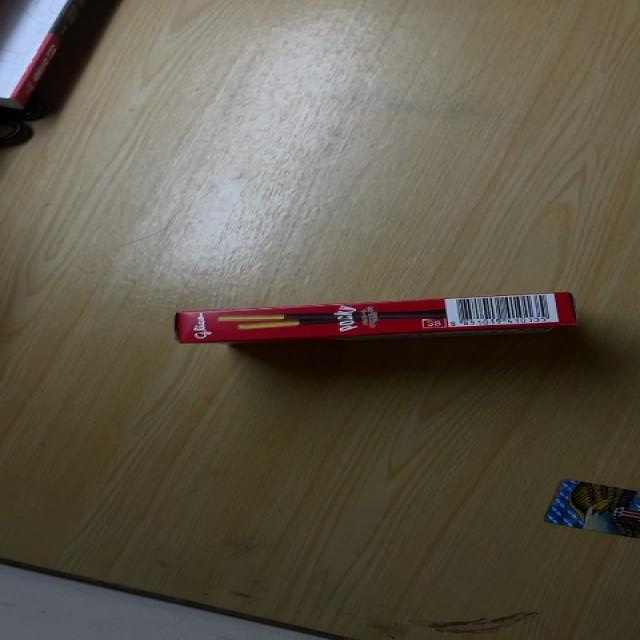Pocky: (174, 290, 578, 345)
